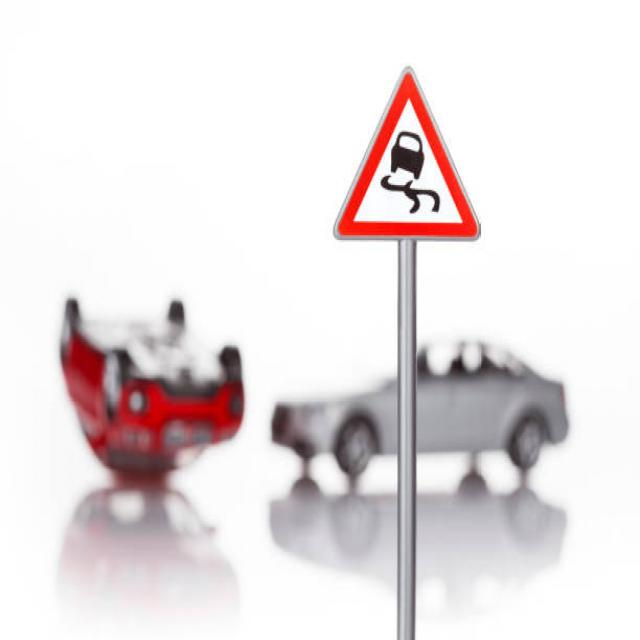road_slippery: (322, 62, 490, 251)
